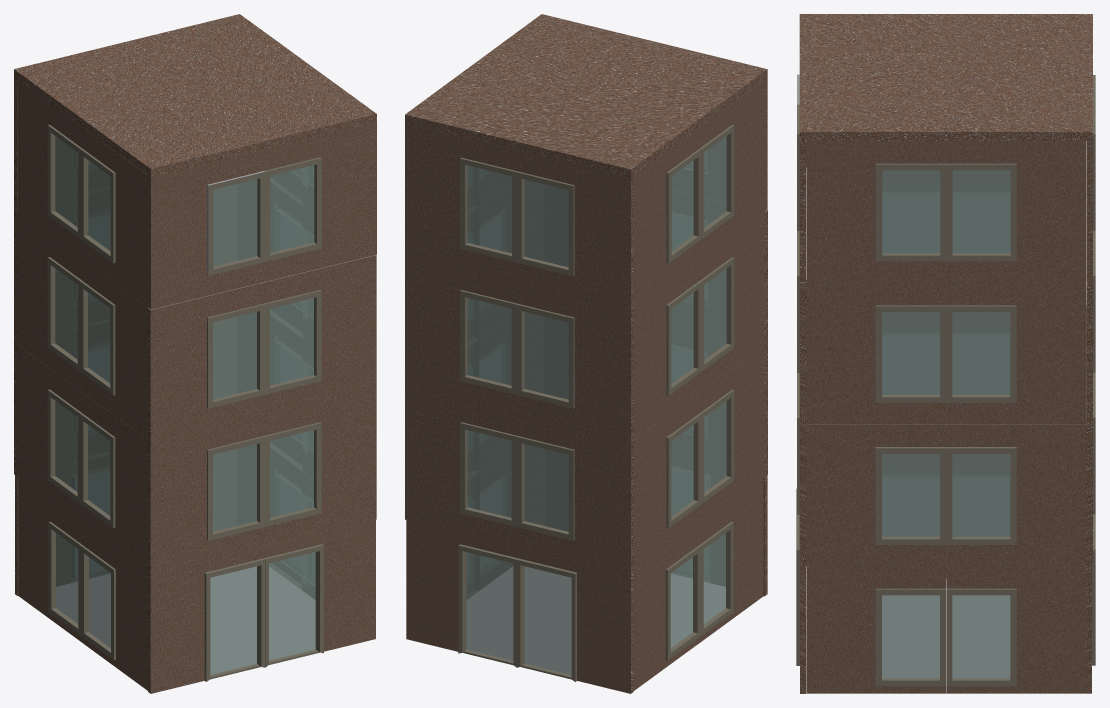
File: buildingC_textured.fbx
The picture shows the model from 3 angles, left to right: view 1: azimuth 30°, elevation 25°; view 2: azimuth 150°, elevation 25°; view 3: azimuth 270°, elevation 25°; orthographic projection. The views are drawn at different scales.
Visible parts, largest first — view 1: window02 (×5), window01 (×4), roof, window15, window16, fronDoor_01, fronDoor_02, window06 (×2), window05 (×2), window04, window08, window03 (+9 smaller); view 2: window01 (×5), window02 (×5), roof, window13, window14, backDoor_01, backDoor_02, window05 (×2), window07 (×2), window06 (×2), window03, window04 (+8 smaller); view 3: roof, window02 (×3), window01 (×3), window07 (×2), window08 (×2), window05, window06, window09, window10, window04, window12, window14 (+5 smaller).
Part boxes in pixels (x1=…): window02 (×5): x1=14, y1=78, x2=376, y2=546; window01 (×4): x1=147, y1=185, x2=313, y2=574; roof: x1=14, y1=14, x2=376, y2=177; window15: x1=148, y1=150, x2=265, y2=309; window16: x1=264, y1=122, x2=376, y2=281; fronDoor_01: x1=148, y1=547, x2=264, y2=693; fronDoor_02: x1=263, y1=520, x2=375, y2=667; window06 (×2): x1=80, y1=128, x2=301, y2=336; window05 (×2): x1=17, y1=80, x2=313, y2=345; window04: x1=80, y1=392, x2=147, y2=571; window08: x1=80, y1=260, x2=147, y2=439; window03: x1=17, y1=344, x2=82, y2=524; window01 (×5): x1=405, y1=123, x2=767, y2=476; window02 (×5): x1=468, y1=150, x2=633, y2=478; roof: x1=405, y1=14, x2=767, y2=177; window13: x1=516, y1=415, x2=633, y2=574; window14: x1=405, y1=387, x2=517, y2=546; backDoor_01: x1=516, y1=547, x2=633, y2=693; backDoor_02: x1=406, y1=520, x2=518, y2=667; window05 (×2): x1=480, y1=128, x2=701, y2=336; window07 (×2): x1=479, y1=170, x2=701, y2=439; window06 (×2): x1=468, y1=80, x2=764, y2=345; window03: x1=634, y1=393, x2=701, y2=572; window04: x1=699, y1=345, x2=764, y2=524; roof: x1=799, y1=14, x2=1092, y2=140; window02 (×3): x1=797, y1=246, x2=1085, y2=566; window01 (×3): x1=806, y1=104, x2=1095, y2=566; window07 (×2): x1=806, y1=141, x2=1009, y2=282; window08 (×2): x1=883, y1=141, x2=1085, y2=308; window05: x1=806, y1=280, x2=945, y2=424; window06: x1=946, y1=282, x2=1085, y2=424; window09: x1=806, y1=566, x2=945, y2=693; window10: x1=946, y1=566, x2=1085, y2=693; window04: x1=882, y1=309, x2=946, y2=450; window12: x1=882, y1=451, x2=946, y2=578; window14: x1=1086, y1=365, x2=1095, y2=565.
Size of the model in its own units: 9.18 by 20.04 by 9.67.
4 materials, 1 textured.
